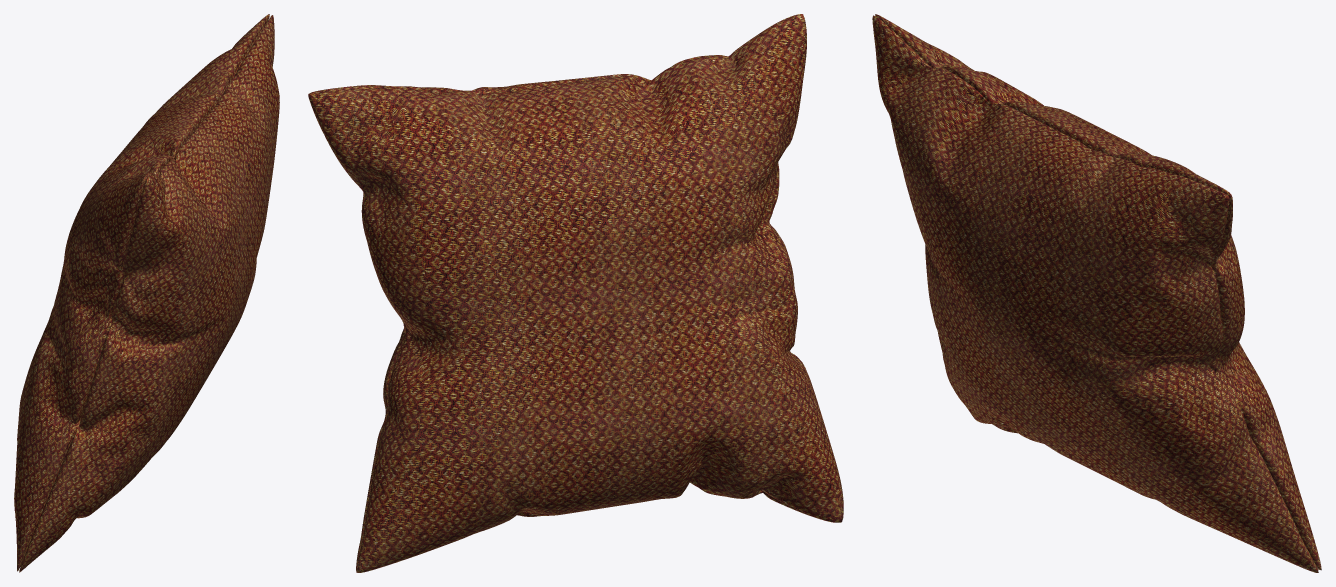
The picture shows the model from 3 angles, left to right: view 1: azimuth 30°, elevation 25°; view 2: azimuth 150°, elevation 25°; view 3: azimuth 270°, elevation 25°; orthographic projection. The views are drawn at different scales.
Visible parts, largest first — view 1: Item_Pillow; view 2: Item_Pillow; view 3: Item_Pillow.
Part boxes in pixels (x1,y1,x2,y2): Item_Pillow: [14, 14, 279, 572]; Item_Pillow: [308, 14, 843, 572]; Item_Pillow: [872, 14, 1321, 572].
Size of the model in its own units: 0.4555 by 0.4811 by 0.4347.
Materials: 1 (1 with a texture image).
